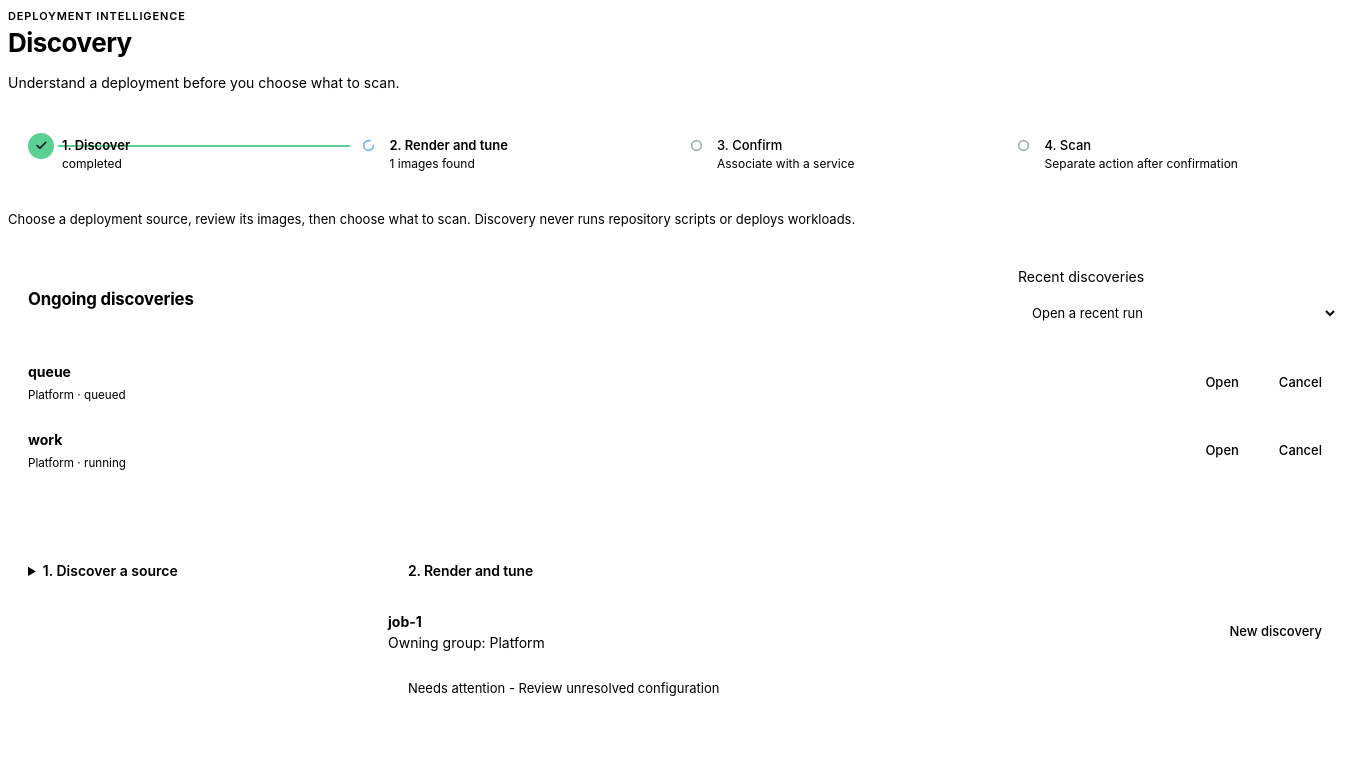
Test: cancels a queued run from the list and shows pending cancellation for a running discovery
The width and height of the screenshot is (1366, 764).
Earlier steps of the test are not shown.
Click the button with aria-label "Cancel discovery queue" at (1300, 383), box [1263,365,1338,401]
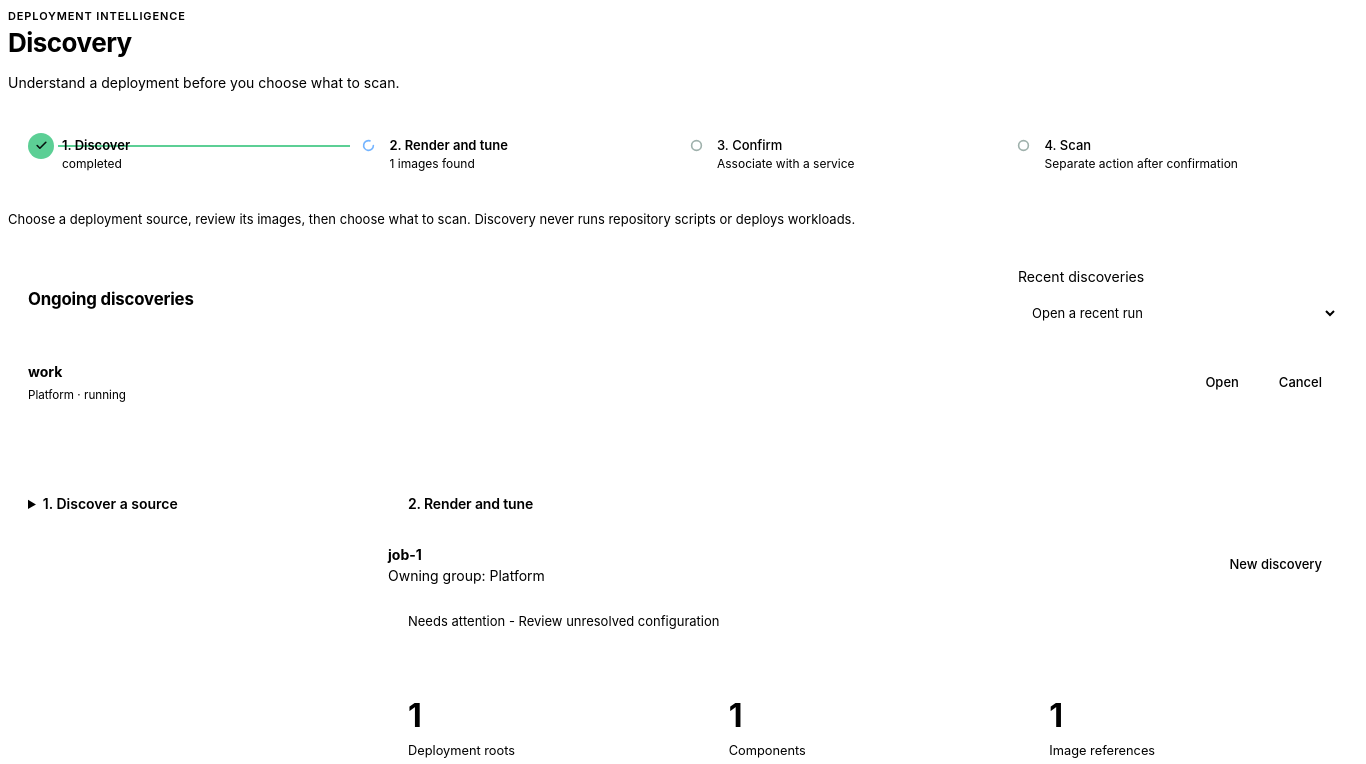
Click the button with aria-label "Open discovery work" at (1222, 383), box [1189,365,1255,401]
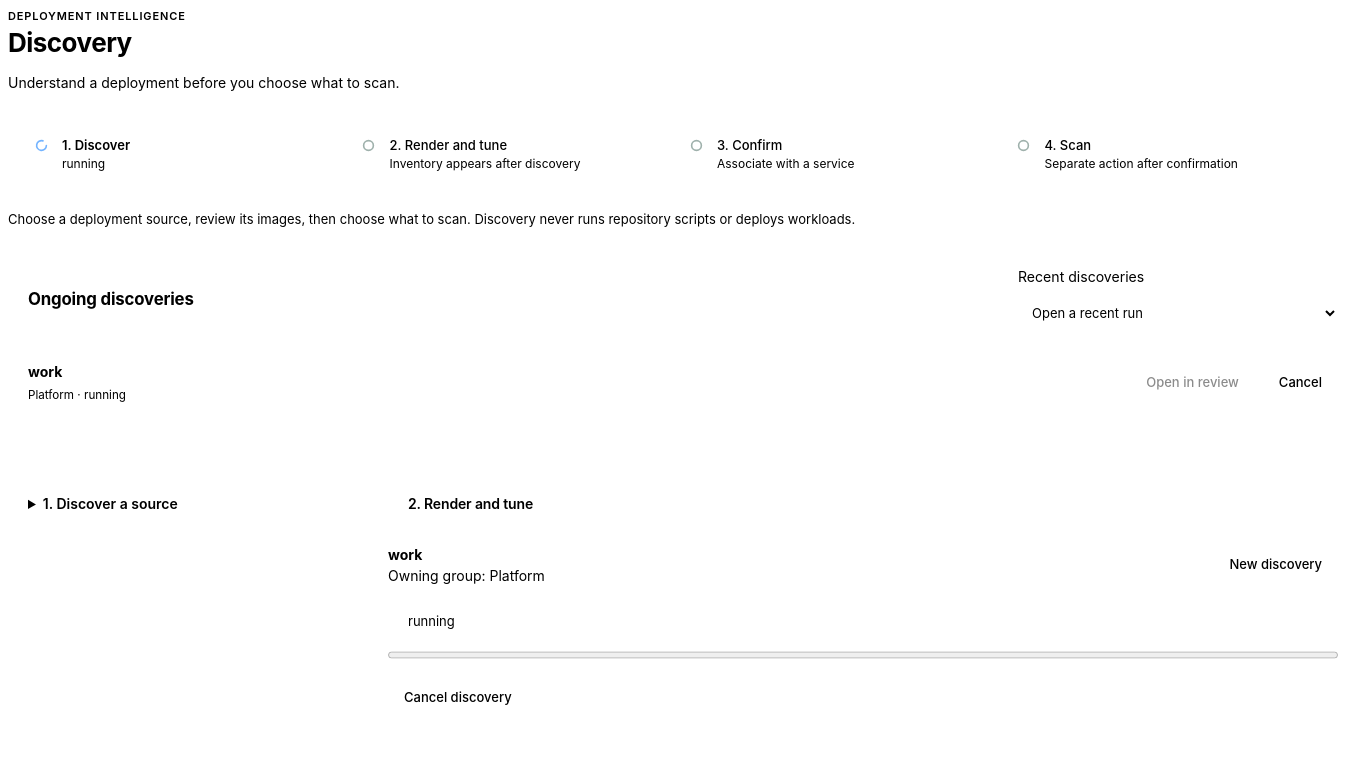
Click the button "Cancel discovery" at (458, 698), box [388,680,528,716]
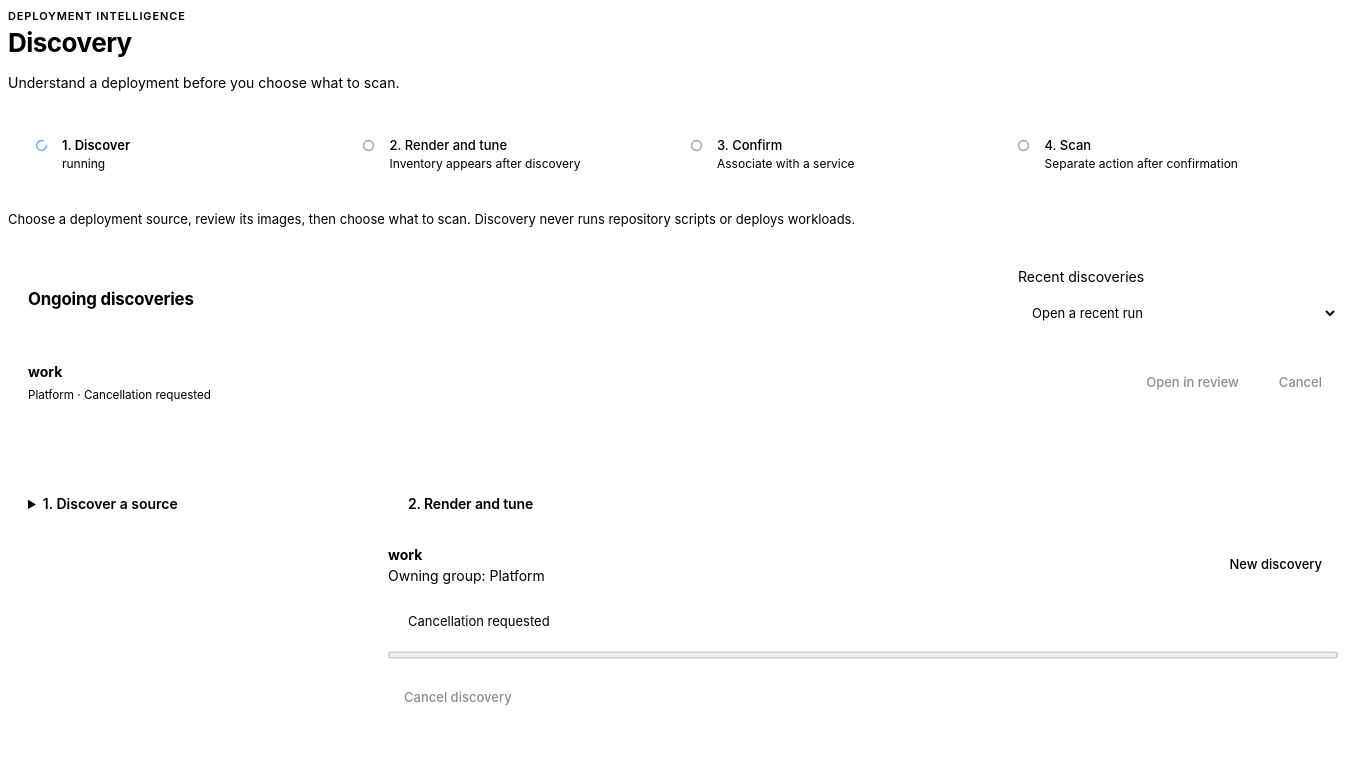
Check: the text "Cancellation requested" is shown, box [408,613,550,629]
Check: the button "Cancel discovery" is disabled, box [388,680,528,716]
Check: the button with aria-label "Cancel discovery work" is disabled, box [1263,365,1338,401]
